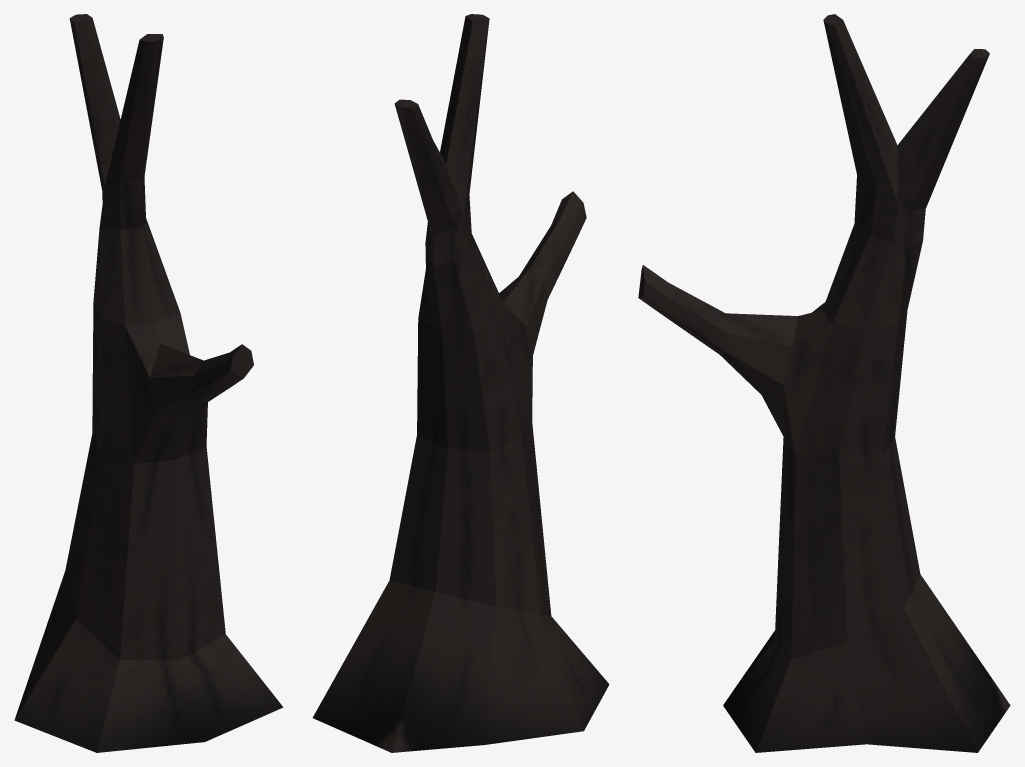
File: Tree_3.fbx
The picture shows the model from 3 angles, left to right: view 1: azimuth 30°, elevation 25°; view 2: azimuth 150°, elevation 25°; view 3: azimuth 270°, elevation 25°; orthographic projection. The views are drawn at different scales.
Parts seen in each view (by area): view 1: Tree_3; view 2: Tree_3; view 3: Tree_3.
Part boxes in pixels (box(x1,y1,x2,y2)): Tree_3: box(14, 14, 283, 752); Tree_3: box(312, 14, 609, 752); Tree_3: box(638, 14, 1010, 752).
Size of the model in its own units: 306 by 905 by 445.
